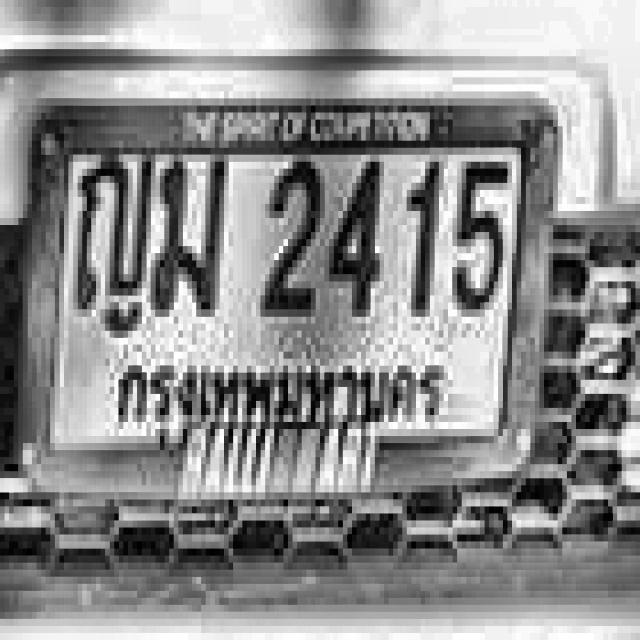license-plate: (14, 88, 574, 525)
